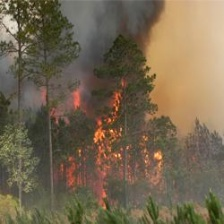fire: (53, 101, 164, 199)
smoke: (36, 1, 175, 100)
